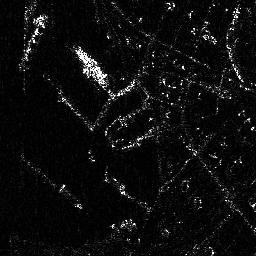ship: (73, 44, 108, 86), (20, 13, 48, 65)
